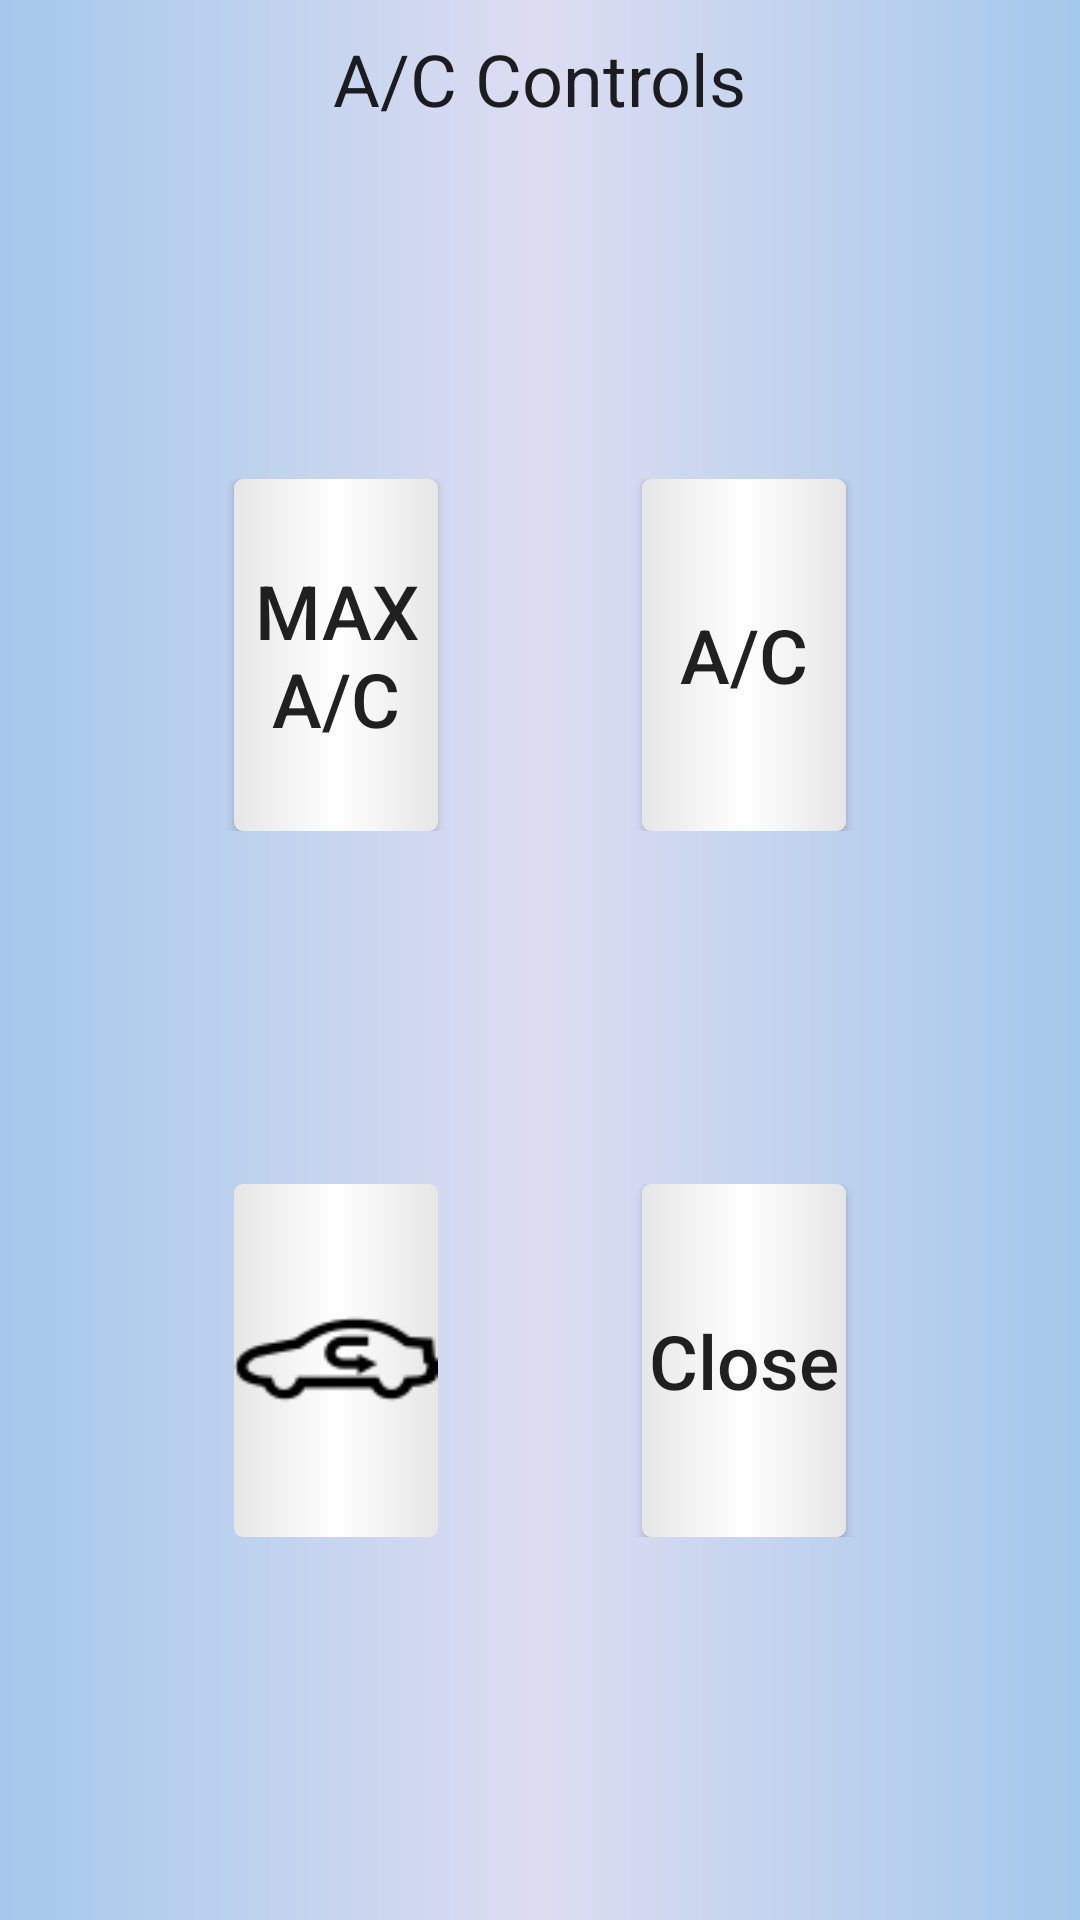

Screen size 1080w x 1920h. Icon name, then its center in pixels as (x,y):
Toggle air recirculation: (336,1360)
